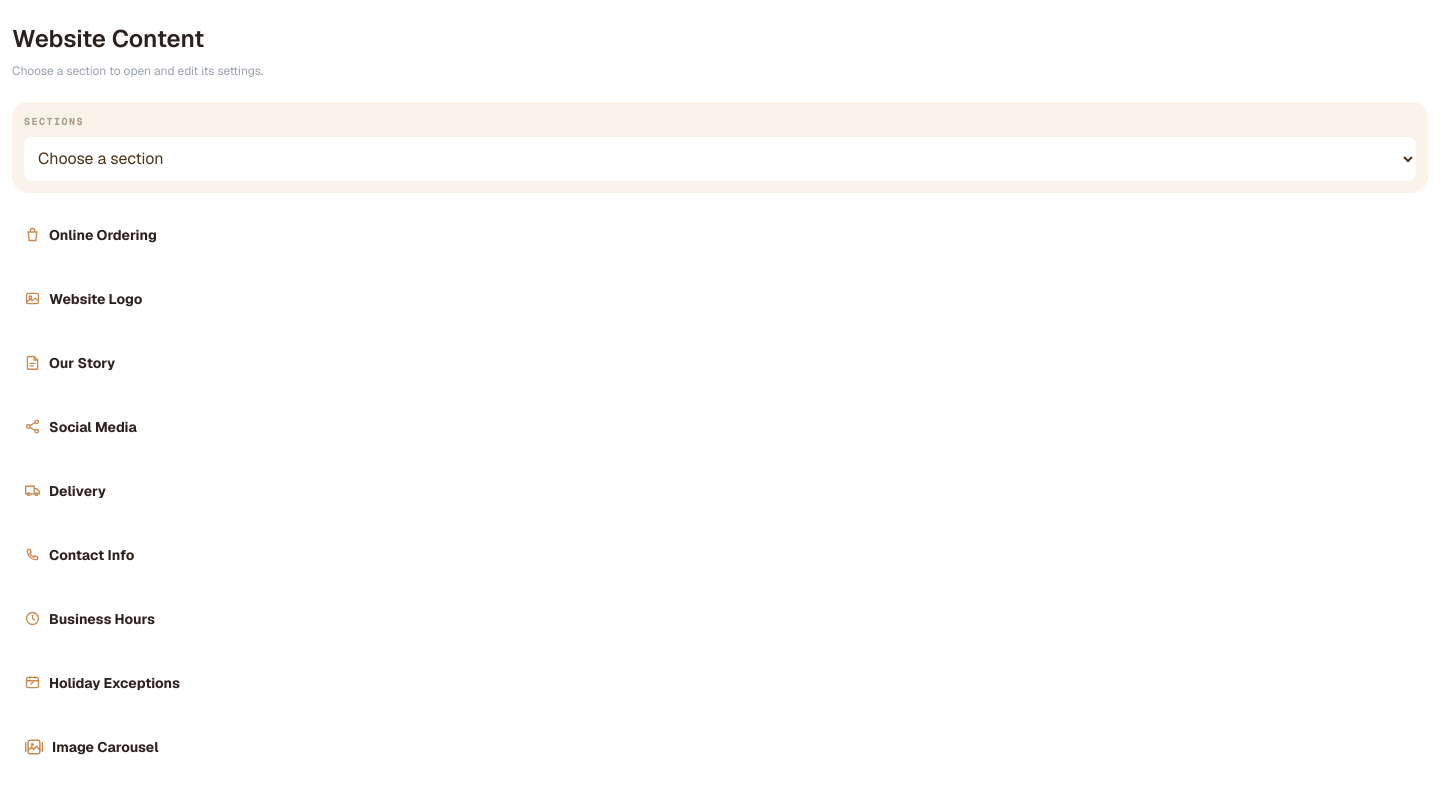
Test: confirmed website content deletion › confirms holiday deletion and addresses the stored date
The image size is (1440, 805).
Select "Holiday Exceptions" in the dropdown labelled "Sections": (720, 158) [24,136,1416,180]
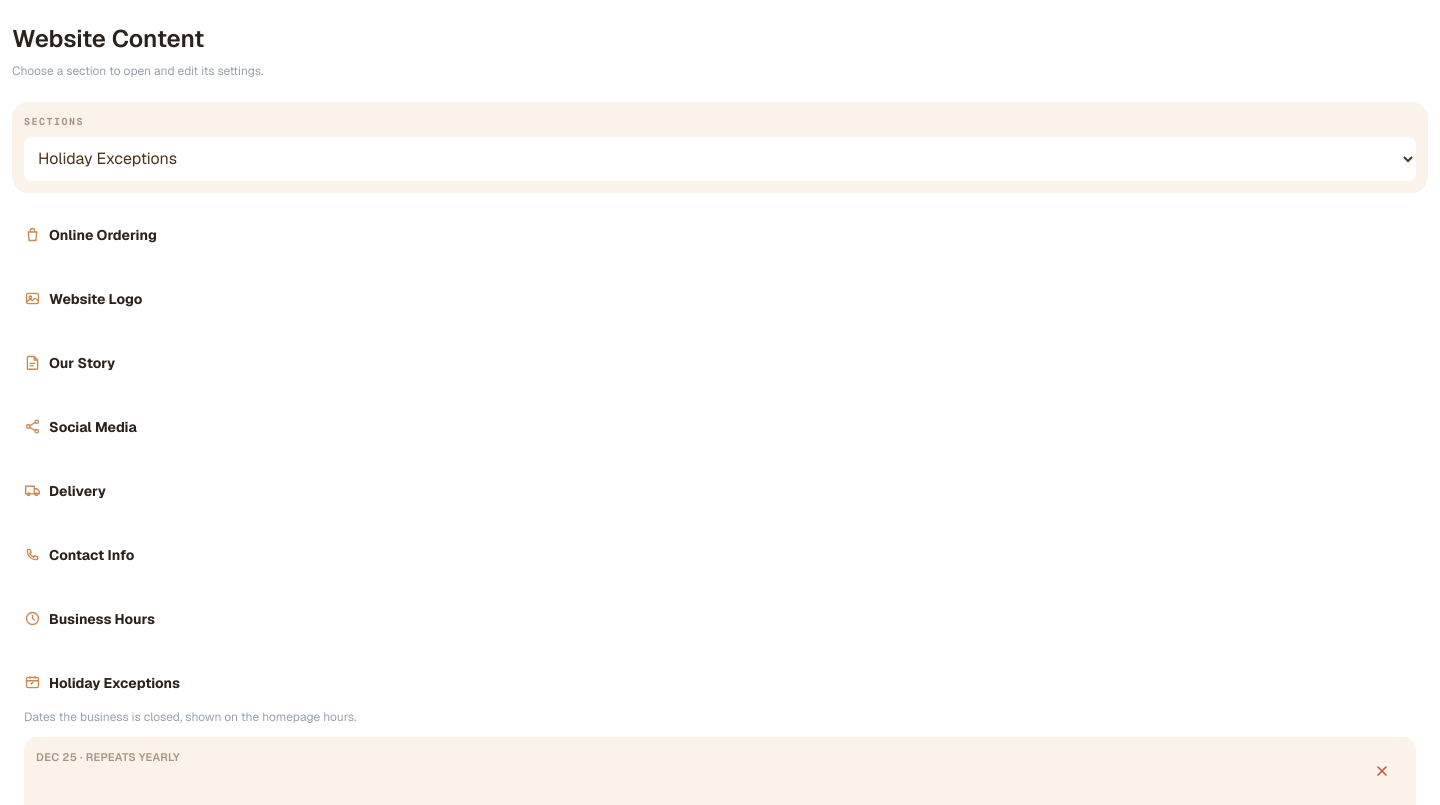
Click the button named "Remove Christmas": (1382, 770) [1360,748,1404,792]
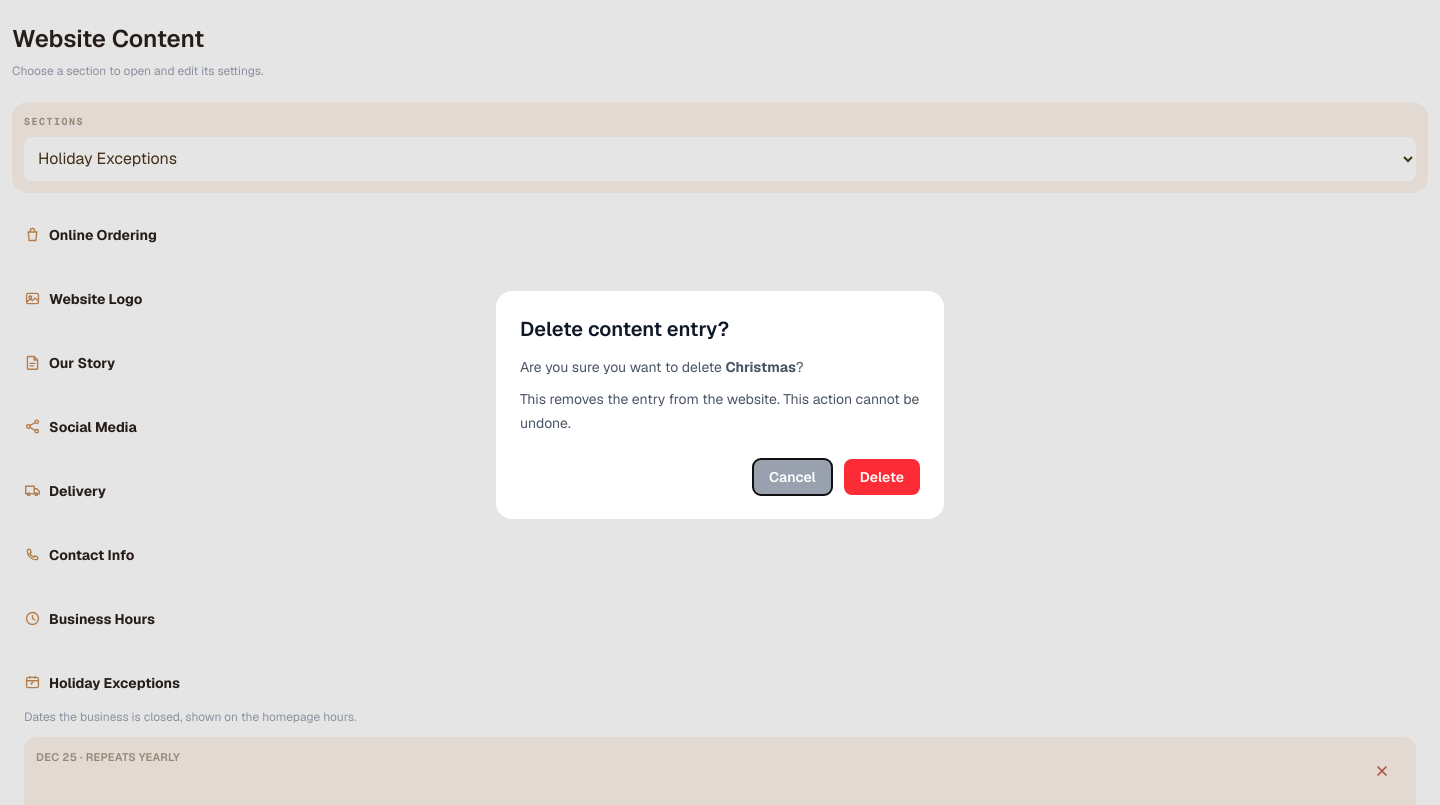
Click the button "Delete": (882, 477) [844,459,920,495]
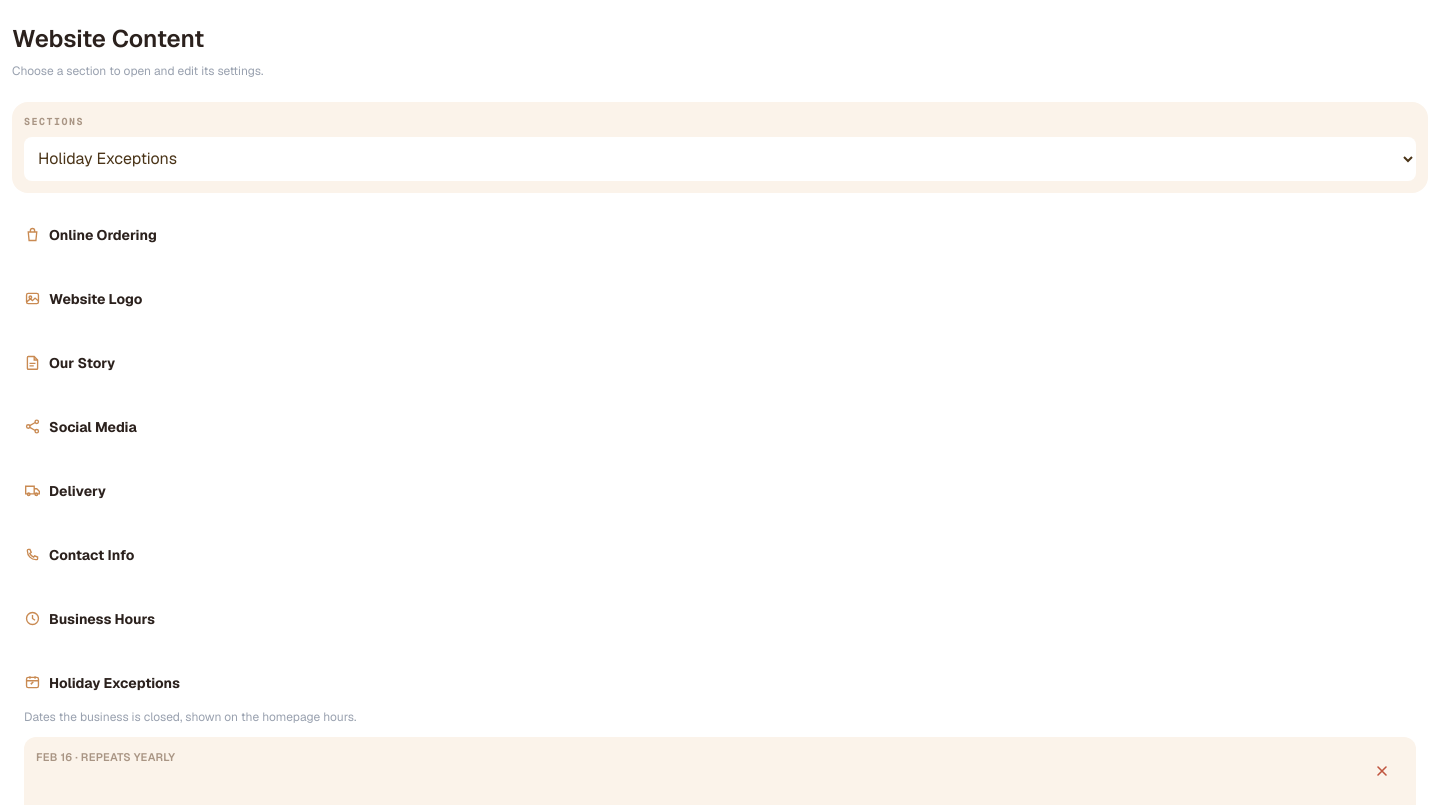
Result: the dialog is gone
